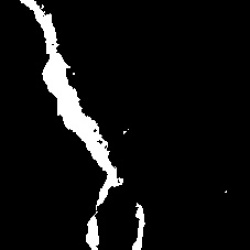crack: (20, 3, 124, 246), (131, 204, 146, 246)
pinhole: (122, 126, 131, 136), (221, 187, 231, 194)
